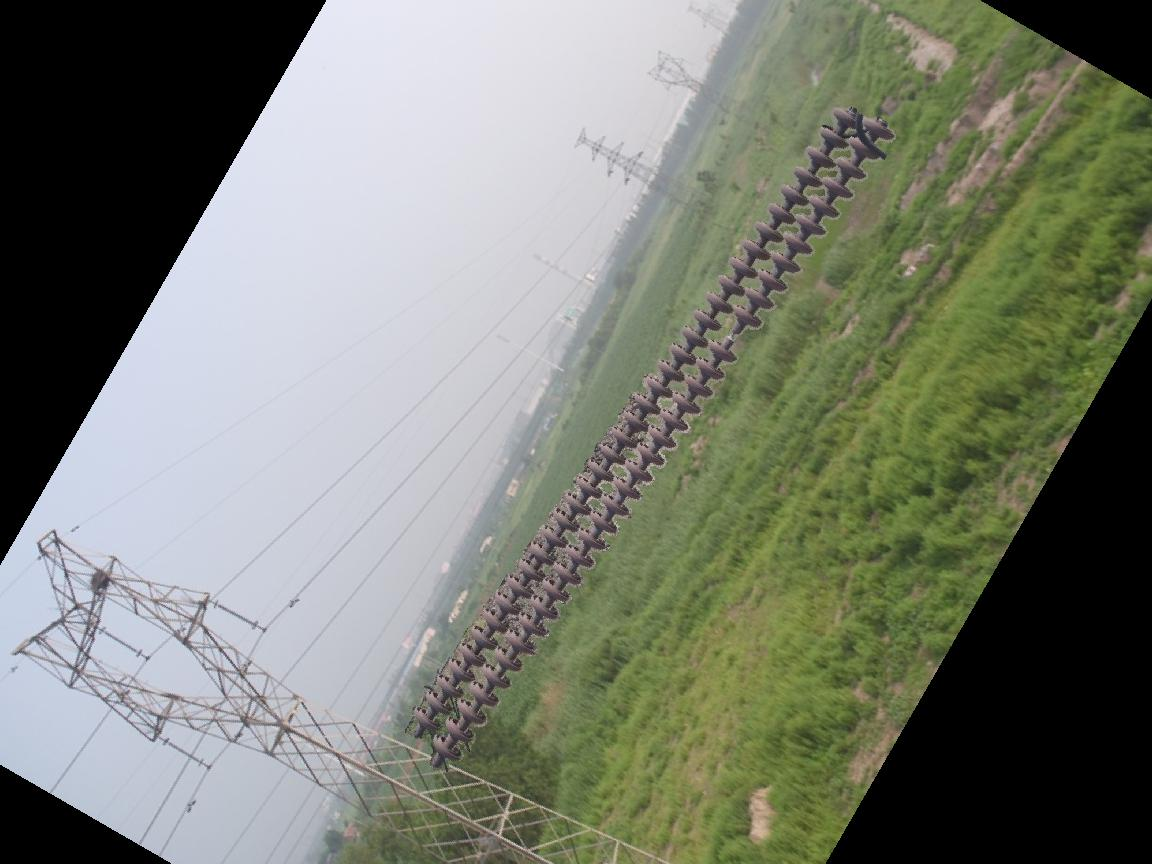insulator: (404, 103, 897, 773)
insulator_stringdrop: (706, 303, 763, 364)
